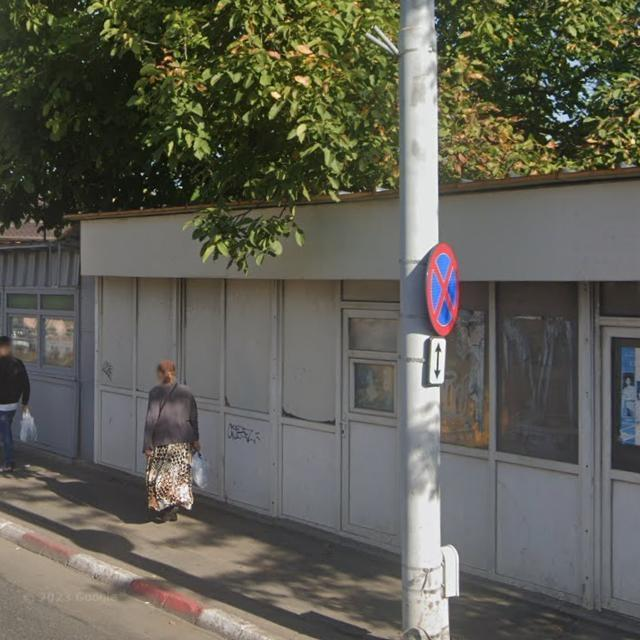forb_waiting: (423, 243, 465, 337)
